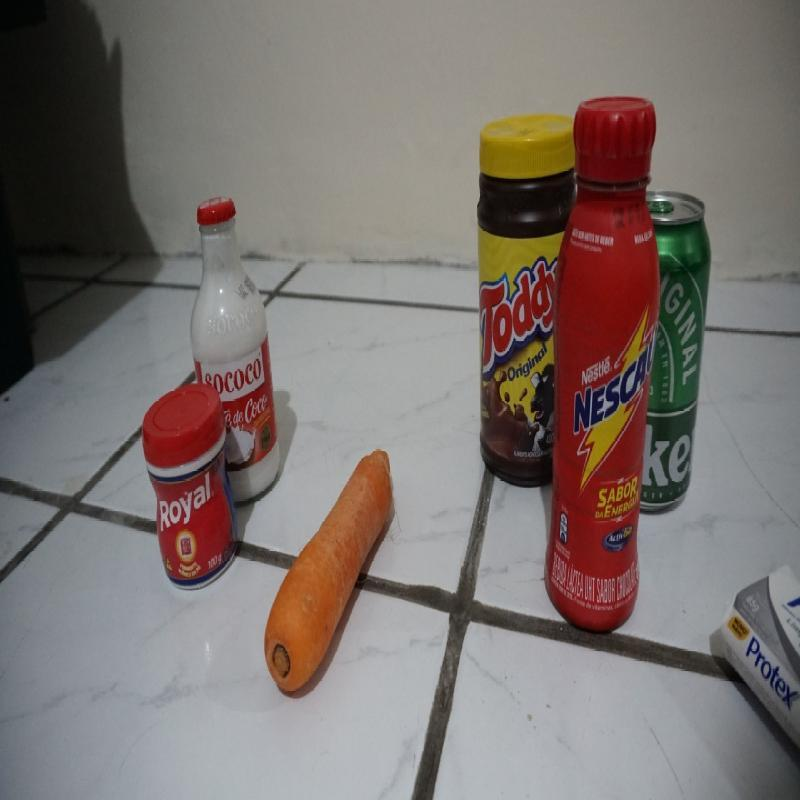Beer can: (653, 181, 710, 543)
Carrot: (270, 451, 400, 681)
Chocolate Milk: (559, 58, 652, 646)
Chocolate Powder: (474, 96, 560, 511)
Coconut Milk: (199, 186, 280, 512)
Soap: (725, 555, 799, 764)
Yeast: (138, 397, 228, 579)
